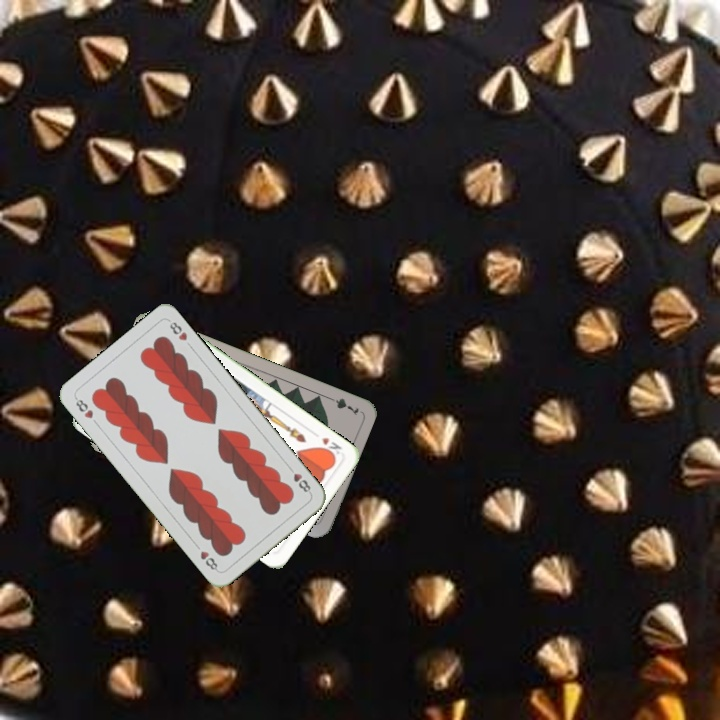G7: (323, 392, 362, 417)
H8: (284, 462, 314, 496), (71, 393, 96, 421)
HK: (316, 433, 344, 461)
